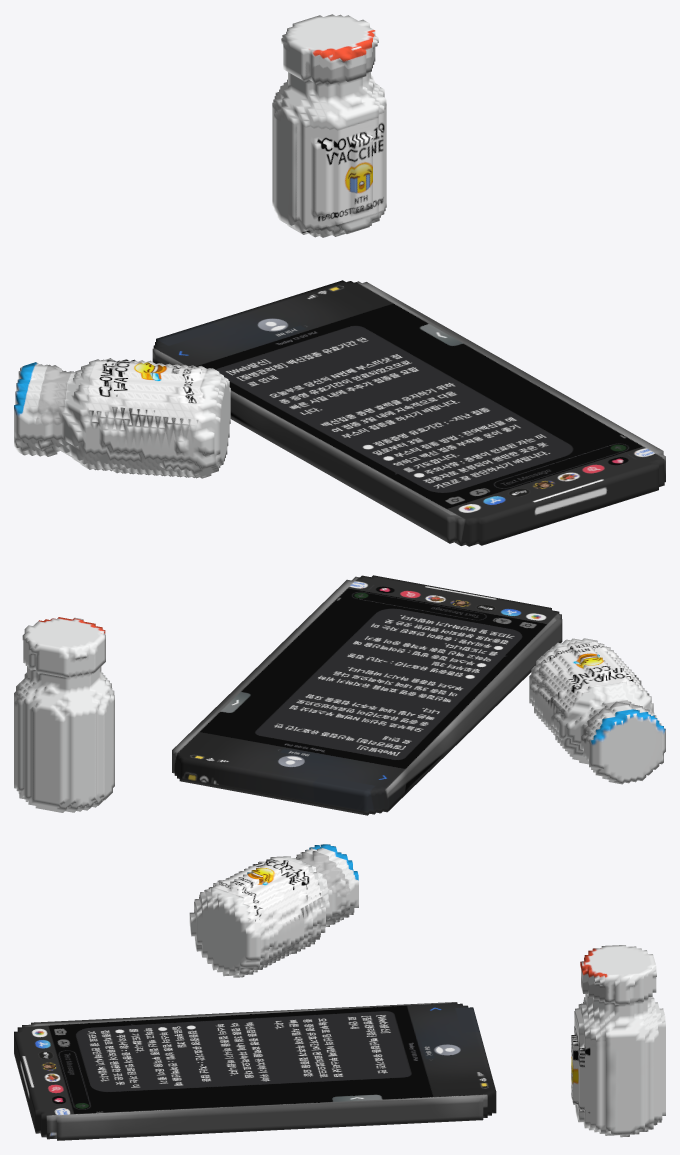
File: ini.gltf
The picture shows the model from 3 angles, top to bottom: view 1: azimuth 30°, elevation 25°; view 2: azimuth 150°, elevation 25°; view 3: azimuth 270°, elevation 25°; orthographic projection. The views are drawn at different scales.
Parts seen in each view (by area): view 1: ini_new_mesh; view 2: ini_new_mesh; view 3: ini_new_mesh.
Boxes of the visible parts, x1=… form: ini_new_mesh: x1=14, y1=14, x2=665, y2=546; ini_new_mesh: x1=14, y1=575, x2=665, y2=815; ini_new_mesh: x1=14, y1=844, x2=665, y2=1140.
Bounding box in the file's own units: 9.84 × 3.64 × 11.88.
1 material, 1 textured.
